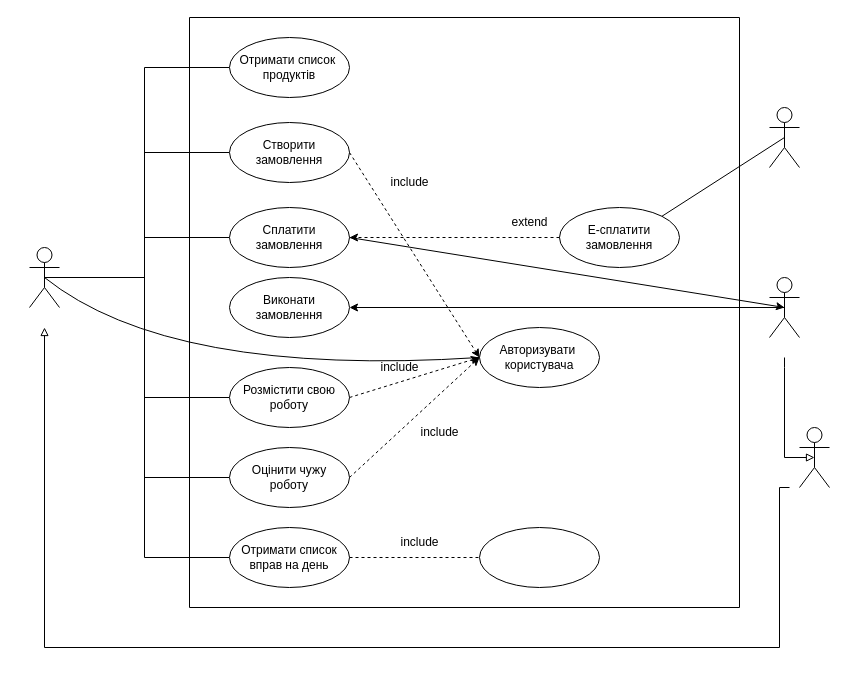
Image size: 849x673. Some labels were removed from this diagram. Each missing label, with the centre of its shape:
Кур'єр: the point at 814,457
Надіслати з бази даних фіз.вправ: the point at 539,557
Робітник: the point at 784,307
Сервіс Е-Рау: the point at 784,137
Споживач: the point at 44,277
